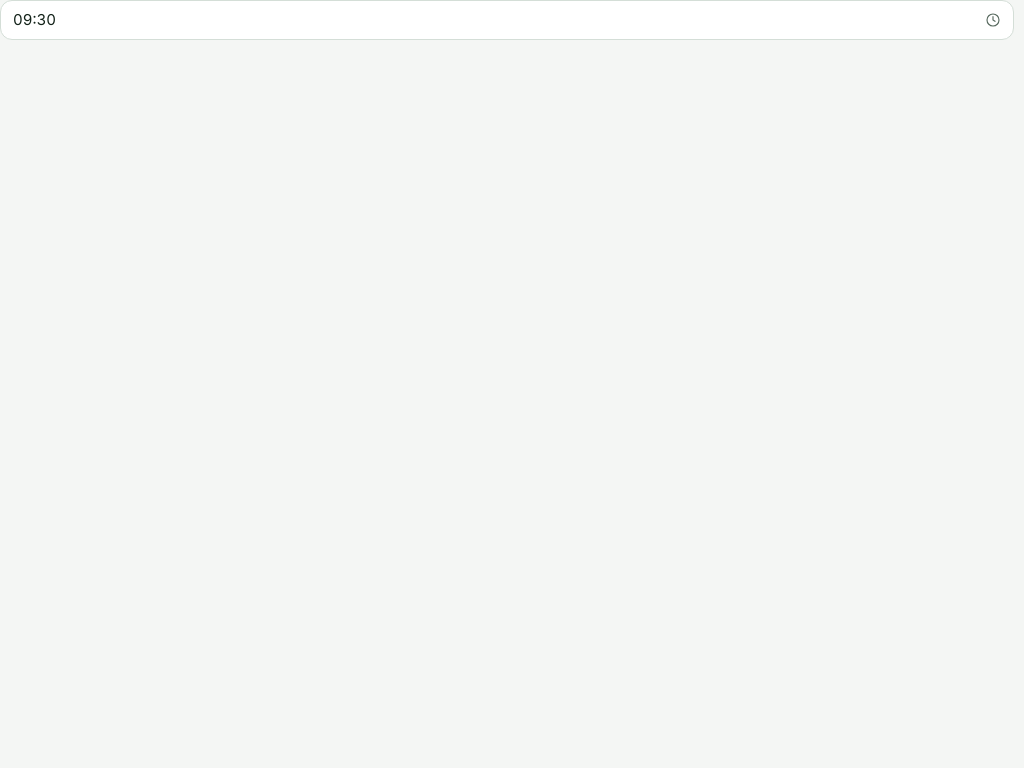
Test case: NuqtaTimePicker › labels the panel and chrome in Arabic when isAr
Click the dropdown named "Pick time" at (34, 20), box [0,0,1014,40]
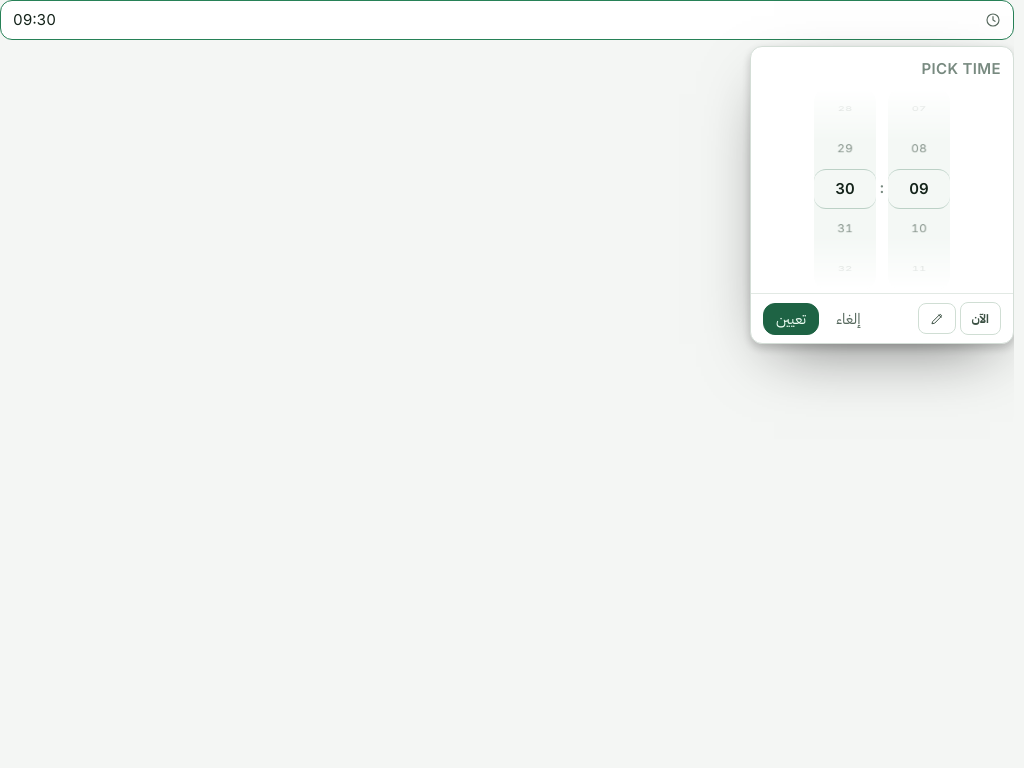
Expected: the list named "الساعة" is shown, [888,89,950,289]
Expected: the button "تعيين" is shown, [763,303,819,335]
